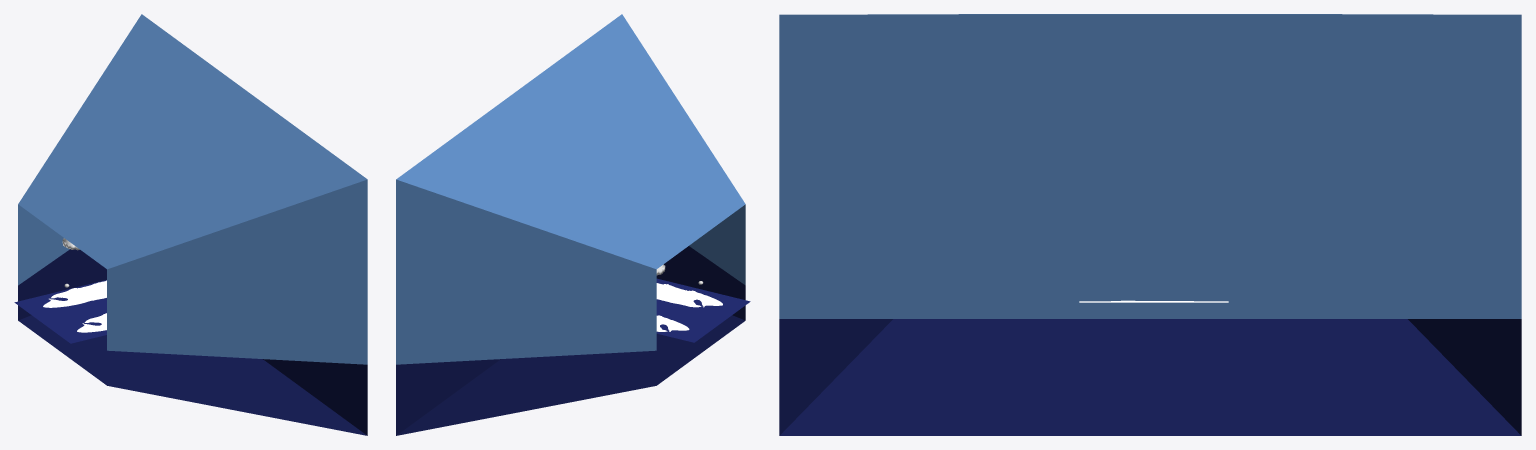
The model's file is aplinka2.fbx.
3 views of the same model, side by side, from view 1: azimuth 30°, elevation 25°; view 2: azimuth 150°, elevation 25°; view 3: azimuth 270°, elevation 25° (orthographic). The views are drawn at different scales.
Visible parts, largest first — view 1: SKY, VANDUO, Landscape1, Landscape2; view 2: SKY, VANDUO, Landscape2; view 3: SKY.
Part boxes in pixels (box(x1,y1,x2,y2)): SKY: box(18, 14, 367, 435); VANDUO: box(14, 280, 106, 343); Landscape1: box(43, 280, 106, 307); Landscape2: box(77, 313, 106, 332); SKY: box(396, 14, 745, 435); VANDUO: box(656, 278, 750, 342); Landscape2: box(656, 283, 722, 307); SKY: box(779, 14, 1521, 435).
Bounding box in the file's own units: 9.8 × 11.2 × 17.89.
